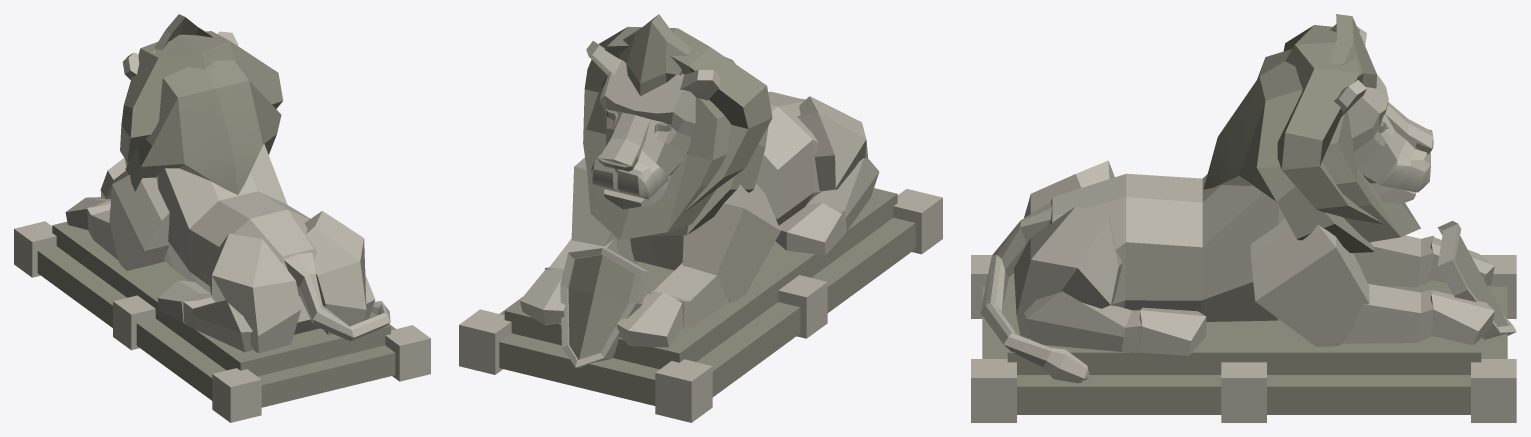
Rendered from statue_lion.fbx.
3 renders of one model, left to right at view 1: azimuth 30°, elevation 25°; view 2: azimuth 150°, elevation 25°; view 3: azimuth 270°, elevation 25°, orthographic. The views are drawn at different scales.
Parts seen in each view (by area): view 1: armystuff:footsoldier:armystuff:footsoldier:polySurface280; view 2: armystuff:footsoldier:armystuff:footsoldier:polySurface280; view 3: armystuff:footsoldier:armystuff:footsoldier:polySurface280.
Boxes of the visible parts, left/top/right/bottom form: armystuff:footsoldier:armystuff:footsoldier:polySurface280: left=14, top=14, right=430, bottom=422; armystuff:footsoldier:armystuff:footsoldier:polySurface280: left=459, top=14, right=942, bottom=422; armystuff:footsoldier:armystuff:footsoldier:polySurface280: left=971, top=14, right=1516, bottom=422.
Size of the model in its own units: 81.31 by 107 by 152.
1 material, 1 textured.
